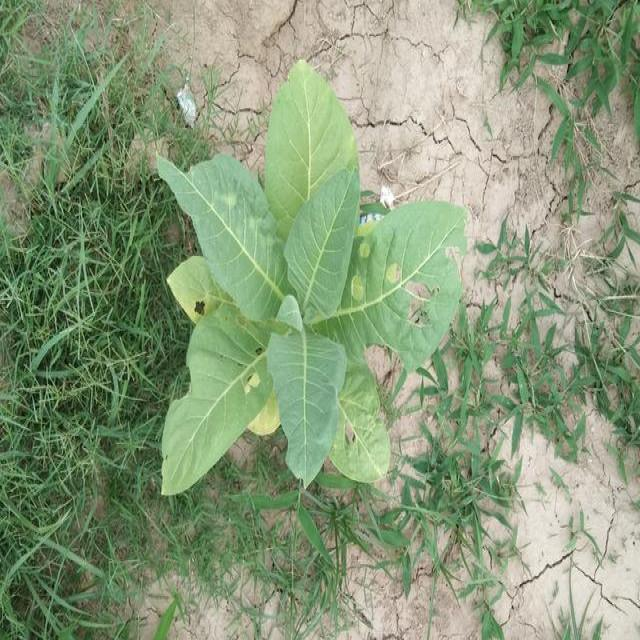crop: (145, 59, 473, 515)
